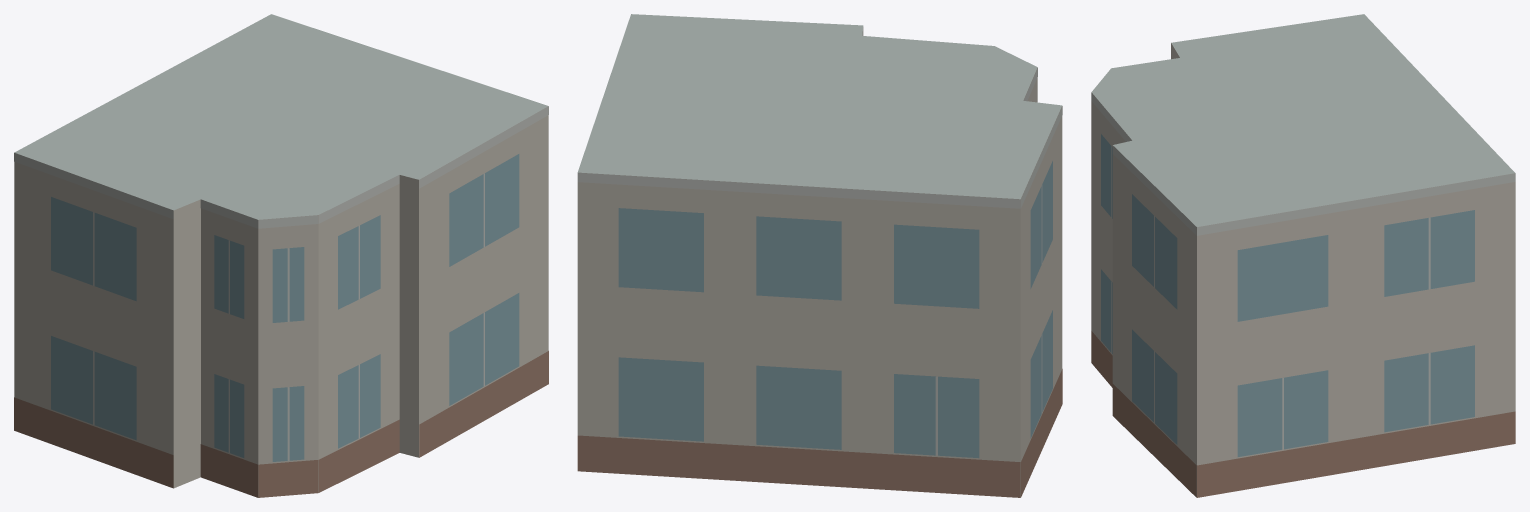
File: survey-upis-32606477.glb
3 views of the same model, side by side, from view 1: azimuth 30°, elevation 25°; view 2: azimuth 150°, elevation 25°; view 3: azimuth 270°, elevation 25° (orthographic). The views are drawn at different scales.
Visible parts, largest first — view 1: survey-upis-32606477.tmp; view 2: survey-upis-32606477.tmp; view 3: survey-upis-32606477.tmp.
Boxes of the visible parts, box(x1,y1,x2,y2) form: survey-upis-32606477.tmp: box(14, 14, 548, 497); survey-upis-32606477.tmp: box(577, 14, 1062, 497); survey-upis-32606477.tmp: box(1091, 14, 1515, 497).
Size of the model in its own units: 12.85 by 7.6 by 10.8.
